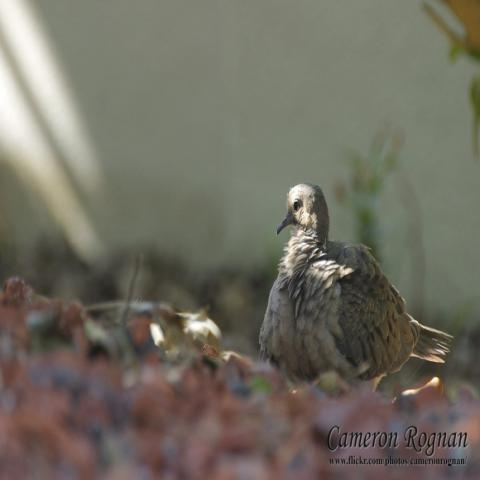bird: (257, 179, 454, 395)
